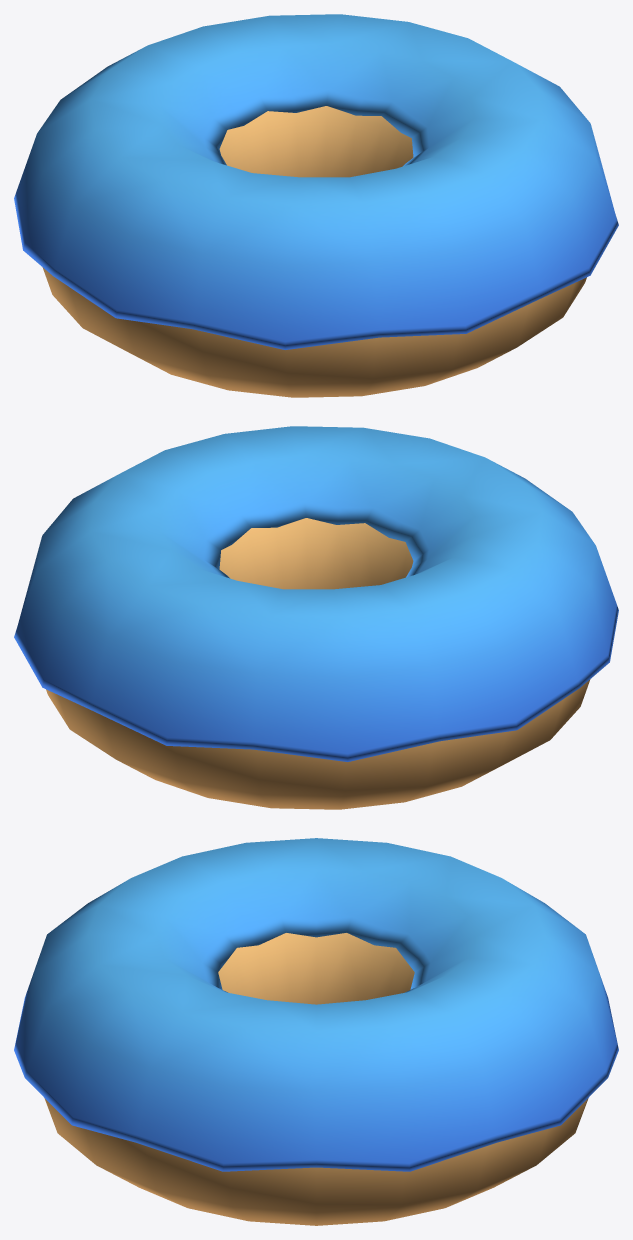
File: donut_blue.fbx
The picture shows the model from 3 angles, top to bottom: view 1: azimuth 30°, elevation 25°; view 2: azimuth 150°, elevation 25°; view 3: azimuth 270°, elevation 25°; orthographic projection.
Parts seen in each view (by area): view 1: donut_blue; view 2: donut_blue; view 3: donut_blue.
Part boxes in pixels (box(x1,y1,x2,y2)): donut_blue: box(14, 14, 618, 397); donut_blue: box(14, 426, 618, 809); donut_blue: box(14, 838, 618, 1225).
Bounding box in the file's own units: 93.8 × 33.51 × 92.52.
